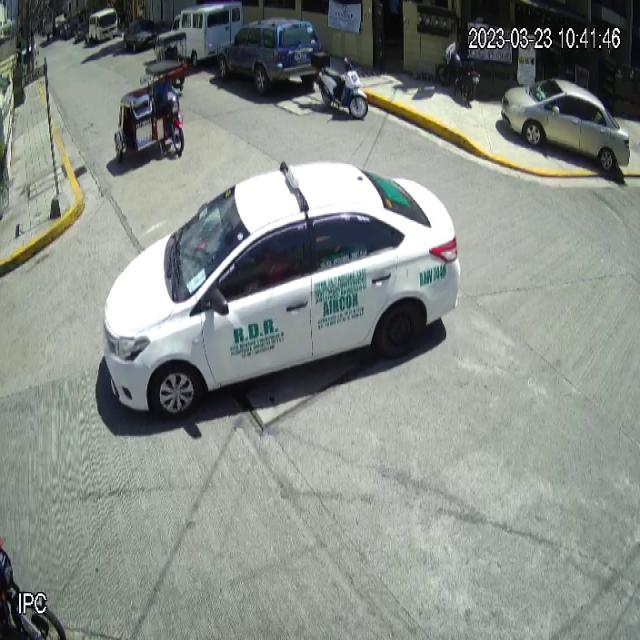Car: (102, 160, 460, 424), (500, 79, 631, 172), (217, 16, 322, 89)
Motorcycle: (310, 50, 369, 117)
Tricycle: (114, 58, 187, 164)
Van: (169, 2, 244, 68)
